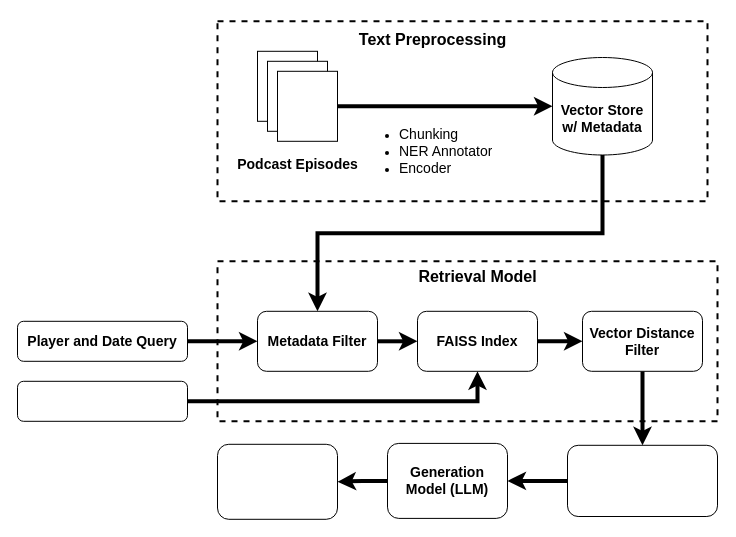
Image size: 736x537. Some labels were removed from this diagram. Here are the shapes that lost their labels. From the top down, the centre of each, then its label:
point (102, 400): LLM Feature Query
point (277, 481): Structured Output Parser
point (642, 480): Prompt with Relevant Context
